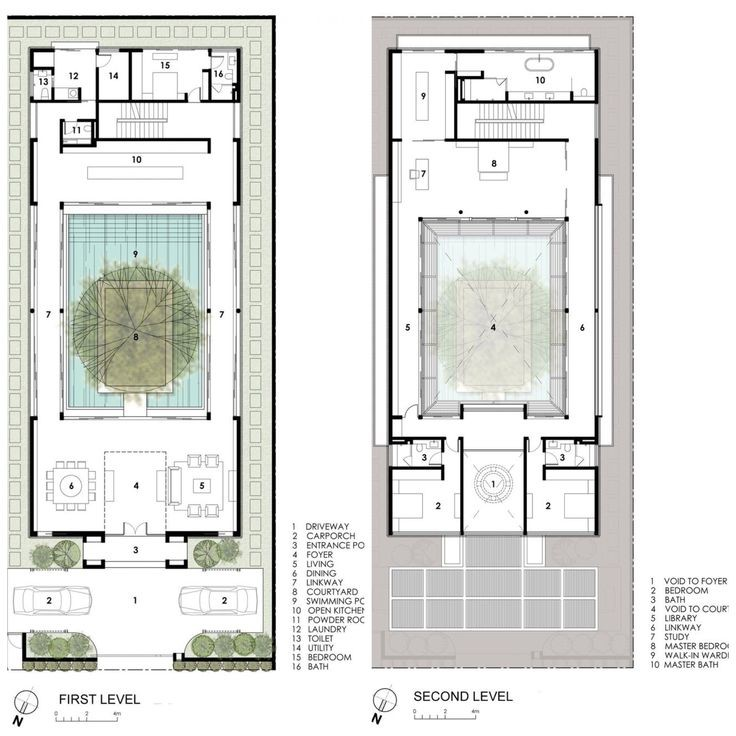room: (383, 44, 608, 459), (35, 39, 241, 208), (23, 411, 253, 539), (518, 423, 602, 531), (393, 431, 469, 534)
